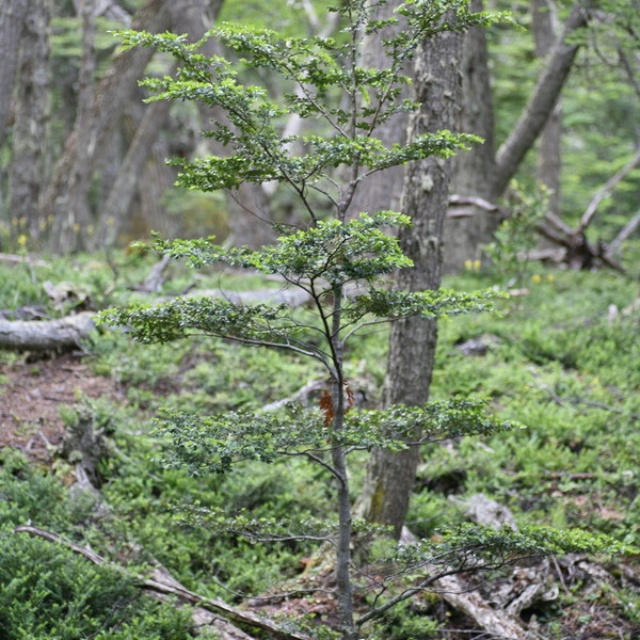obstacle: (133, 69, 498, 618)
